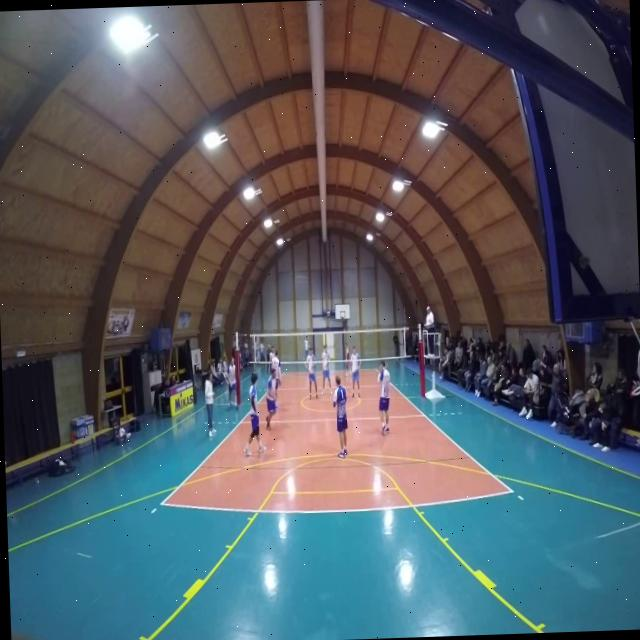serve: (303, 335, 310, 363)
